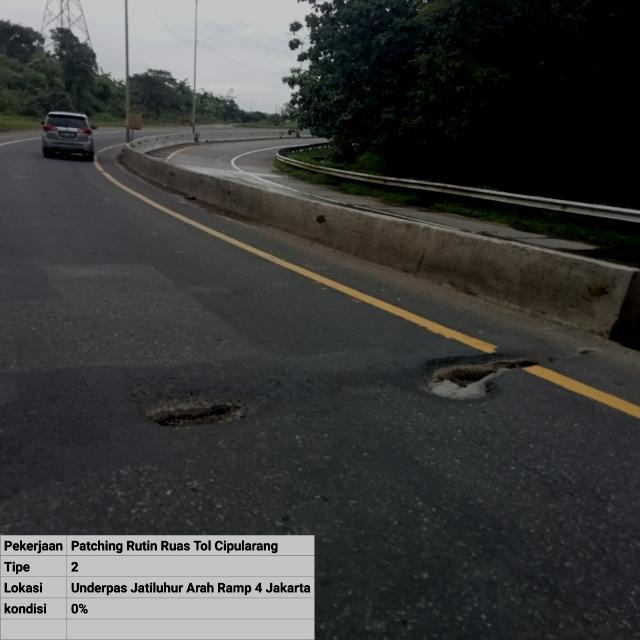Buraco: (409, 350, 563, 406), (136, 395, 254, 434), (571, 344, 602, 359)
